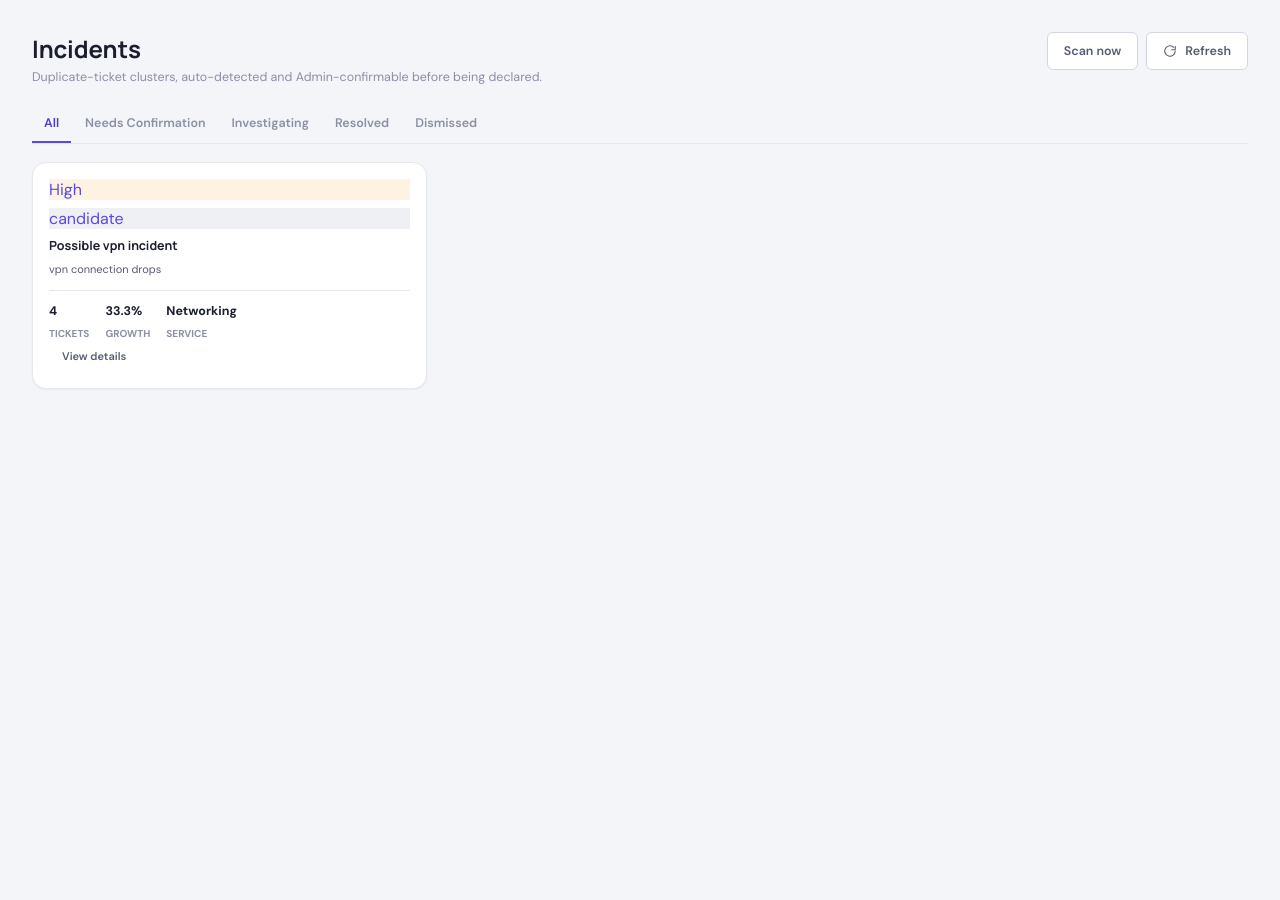
Test case: Incidents page › shows real change-correlation hypotheses labelled as temporal proximity only
Expected: the heading "Possible vpn incident" is shown, 49,237 -> 178,254
Click the button "View details".
click(94, 356)  # box 49,340 -> 139,372
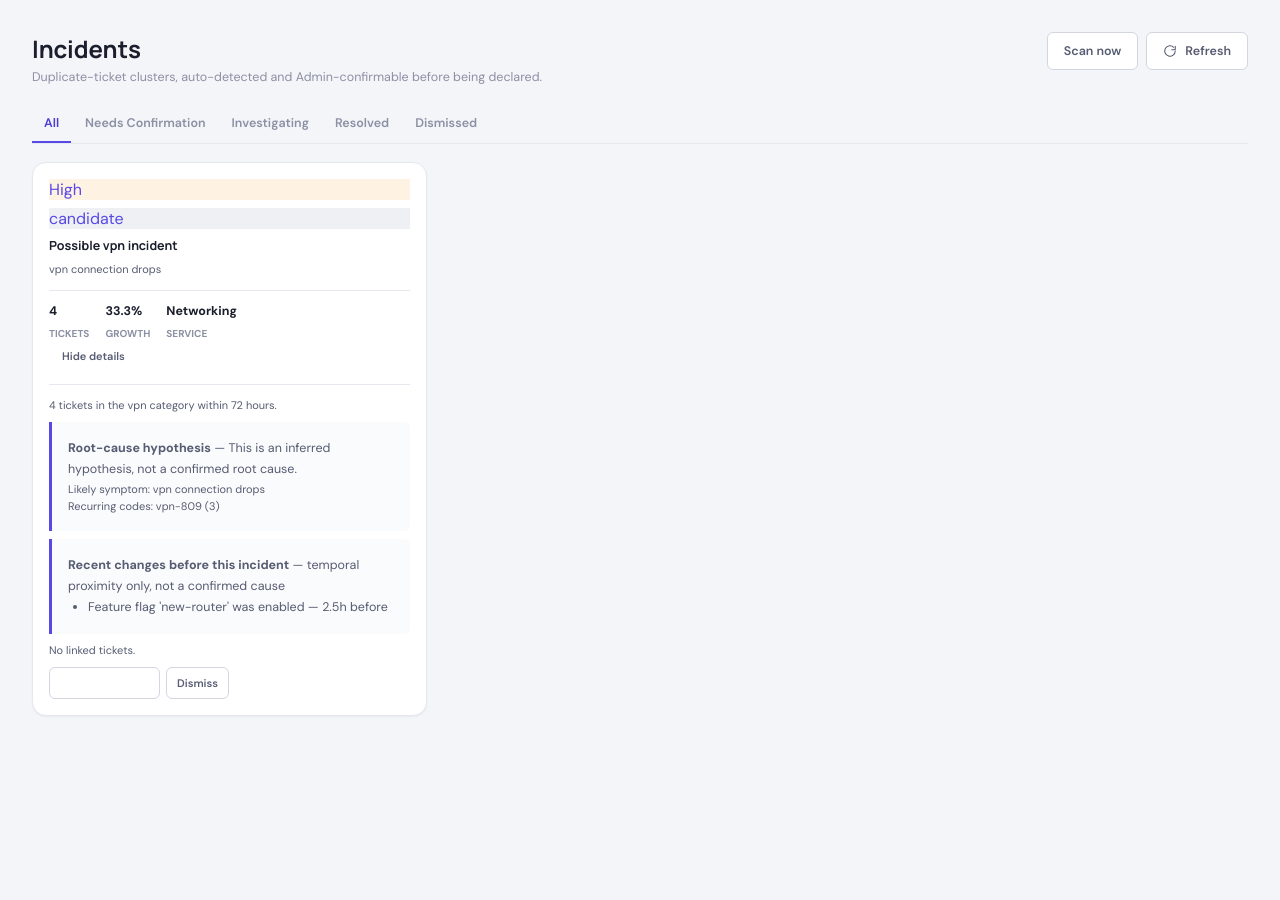
Expected: the list item "Feature flag 'new-router' was enabled — 2.5h before" is shown, 88,597 -> 394,618
Expected: the text "temporal proximity only, not a confirmed cause" is shown, 68,557 -> 359,594
